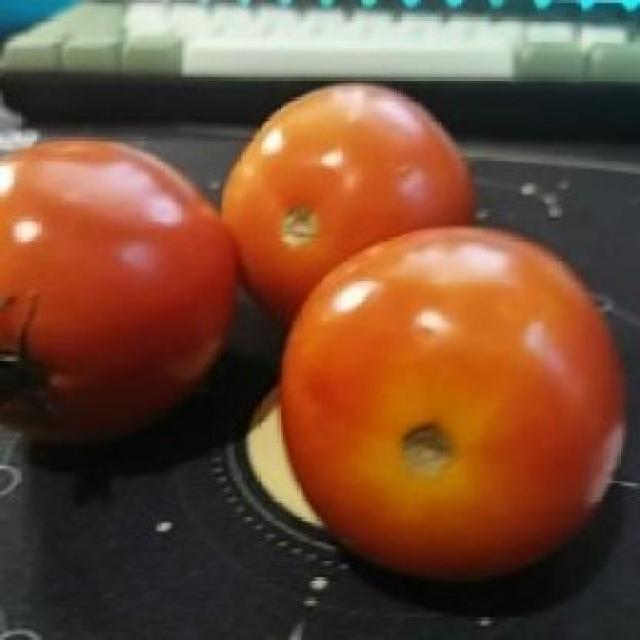Fresh Tomato: (260, 215, 629, 598), (0, 119, 231, 464), (213, 81, 481, 314)
